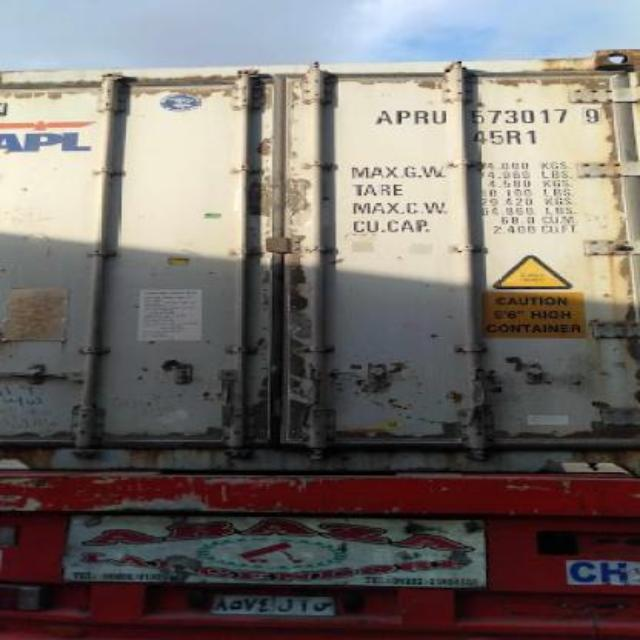0: (520, 108, 534, 124)
1: (540, 107, 554, 123)
3: (504, 108, 518, 124)
5: (470, 108, 488, 124)
7: (552, 106, 570, 124), (488, 108, 502, 124)
9: (588, 108, 602, 124)
A: (380, 110, 392, 126)
P: (394, 108, 412, 124)
R: (412, 109, 430, 125)
U: (428, 108, 448, 124)
